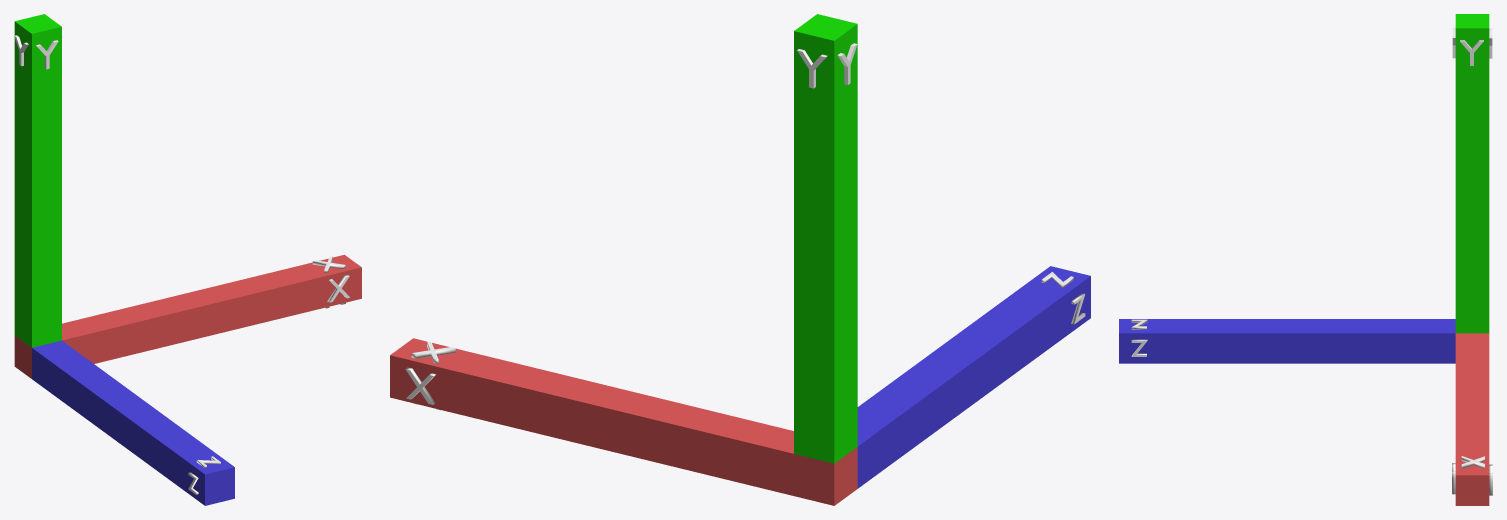
Rendered from axis.glb.
The picture shows the model from 3 angles, left to right: view 1: azimuth 30°, elevation 25°; view 2: azimuth 150°, elevation 25°; view 3: azimuth 270°, elevation 25°; orthographic projection. The views are drawn at different scales.
Visible parts, largest first — view 1: Cube; view 2: Cube; view 3: Cube.
Part boxes in pixels (x1=…): Cube: x1=14, y1=14, x2=361, y2=505; Cube: x1=390, y1=14, x2=1090, y2=505; Cube: x1=1119, y1=14, x2=1489, y2=505.
Size of the model in its own units: 22.18 by 22.21 by 22.21.
